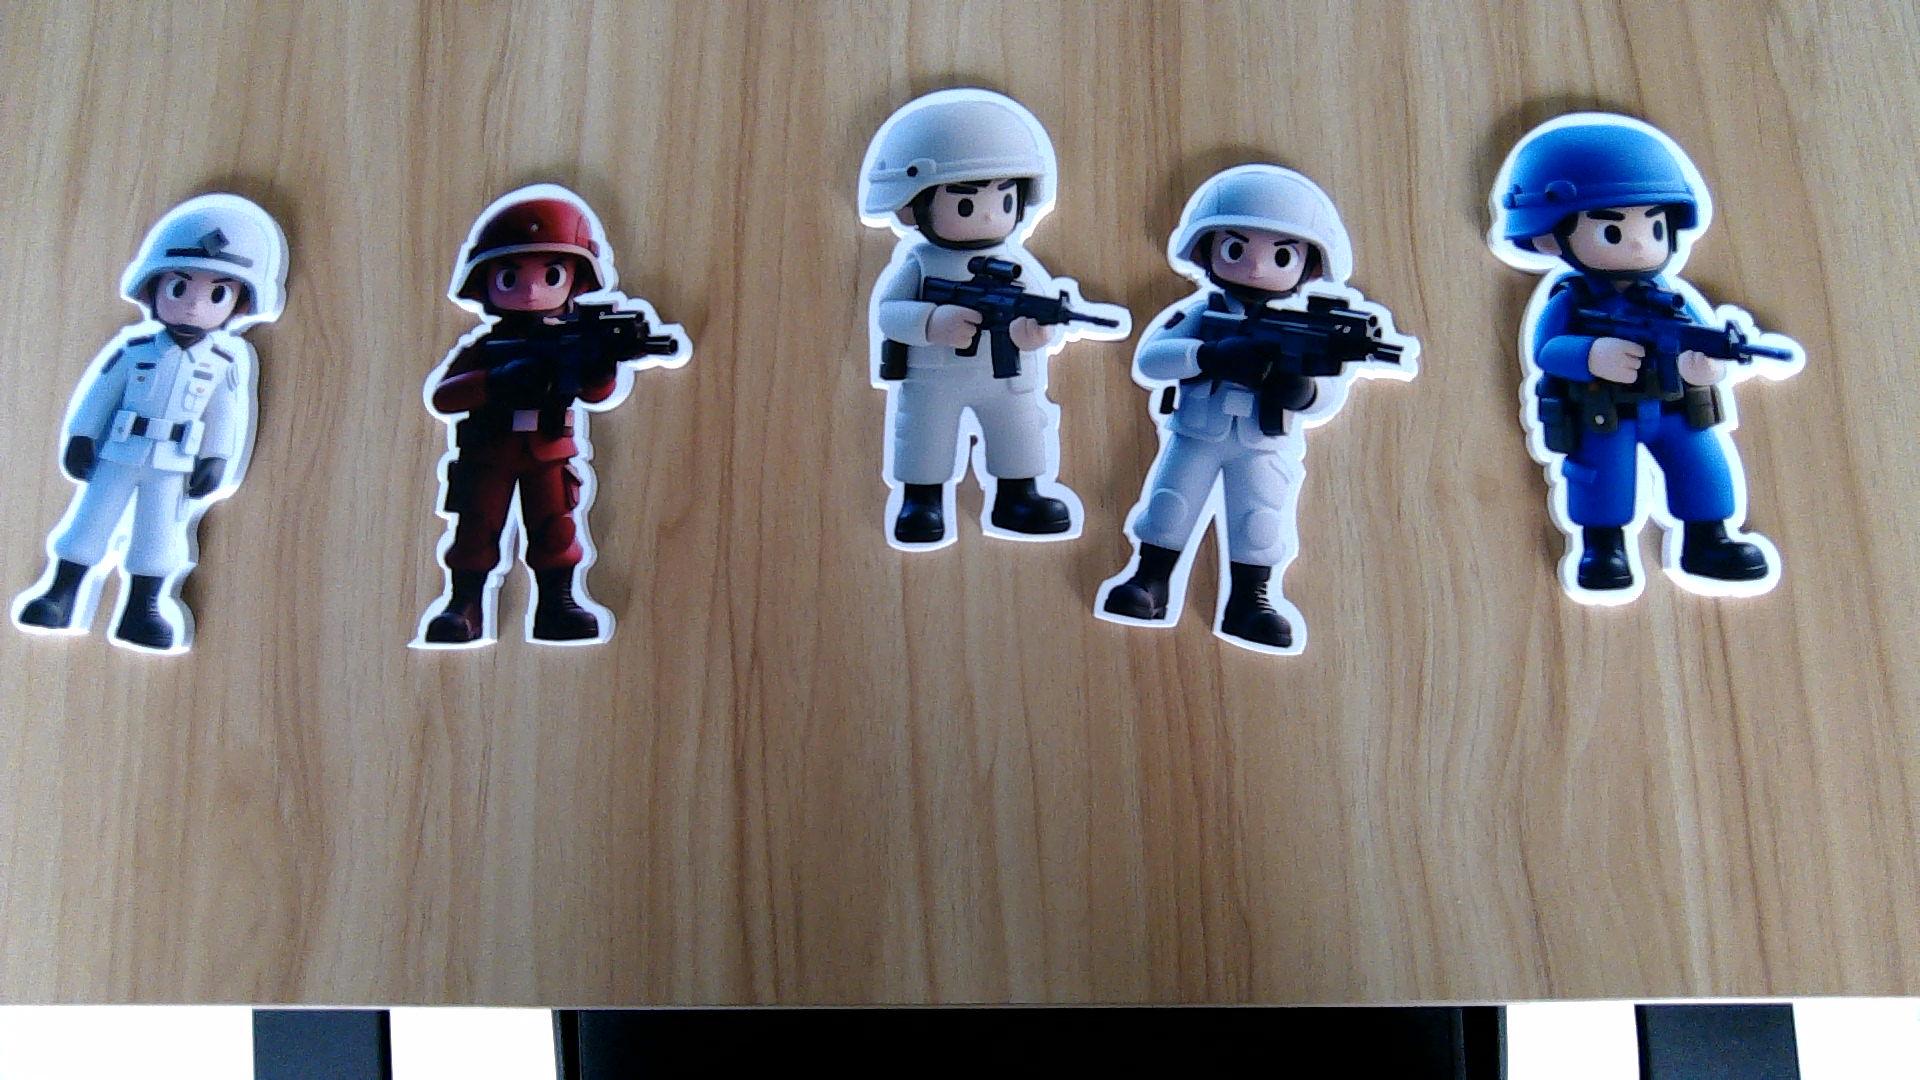人质: (1089, 291, 1414, 655), (11, 336, 257, 654), (857, 249, 1112, 541)
敌人1: (404, 309, 688, 651)
敌人2: (1509, 273, 1808, 615)
